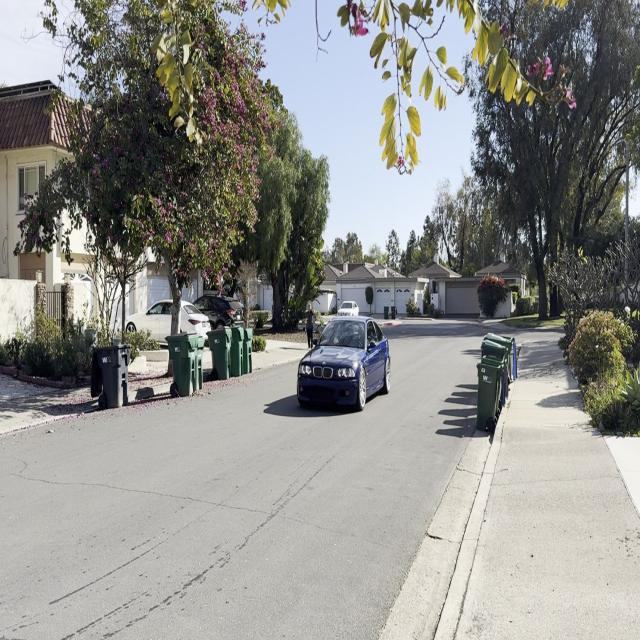Carbeetle: (280, 312, 401, 422)
